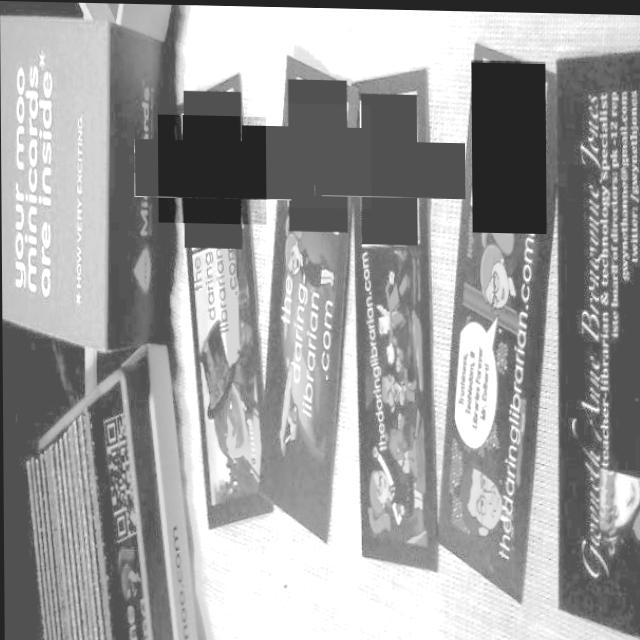qr_code: (471, 57, 546, 230), (158, 113, 267, 223), (265, 101, 371, 206), (337, 114, 441, 220)
